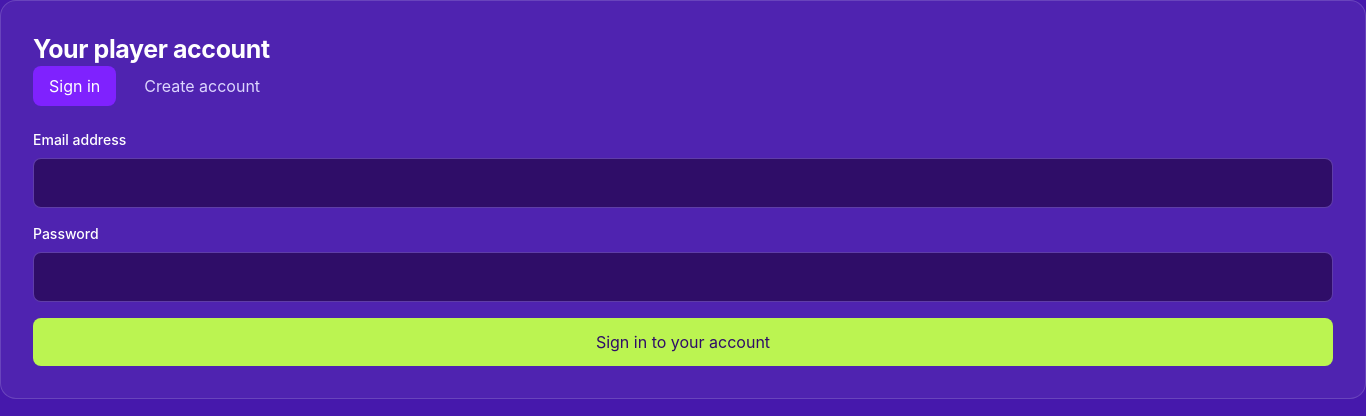
Test: account panel › signs in and clears credentials from the form
Expected: the button "Sign in to your account" is shown, [33,318,1333,366]
Type "player@example.test" into the field labelled "Email address" at (683, 182), box [33,158,1333,208]
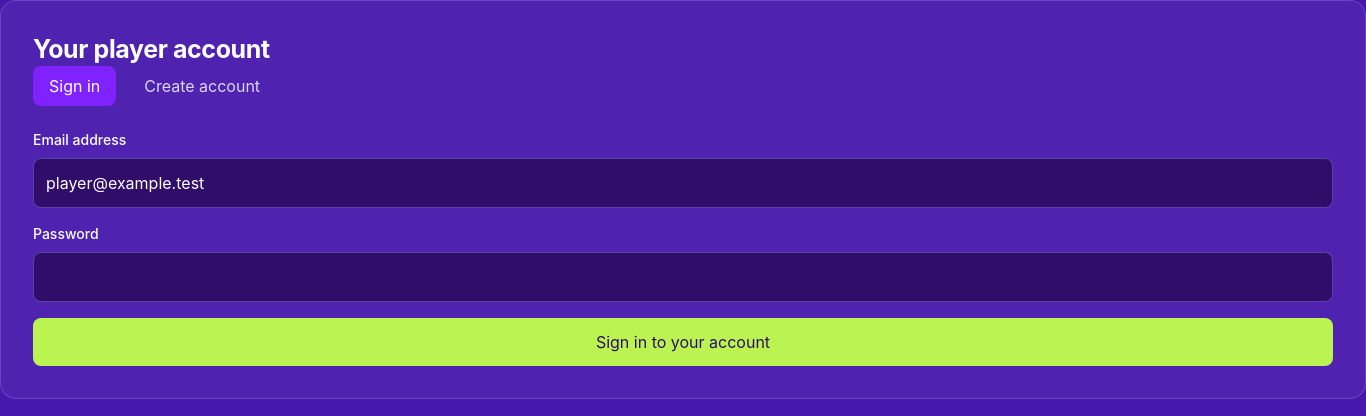
Type "a-long-demo-password" into the password field labelled "Password" at (683, 276), box [33,252,1333,302]
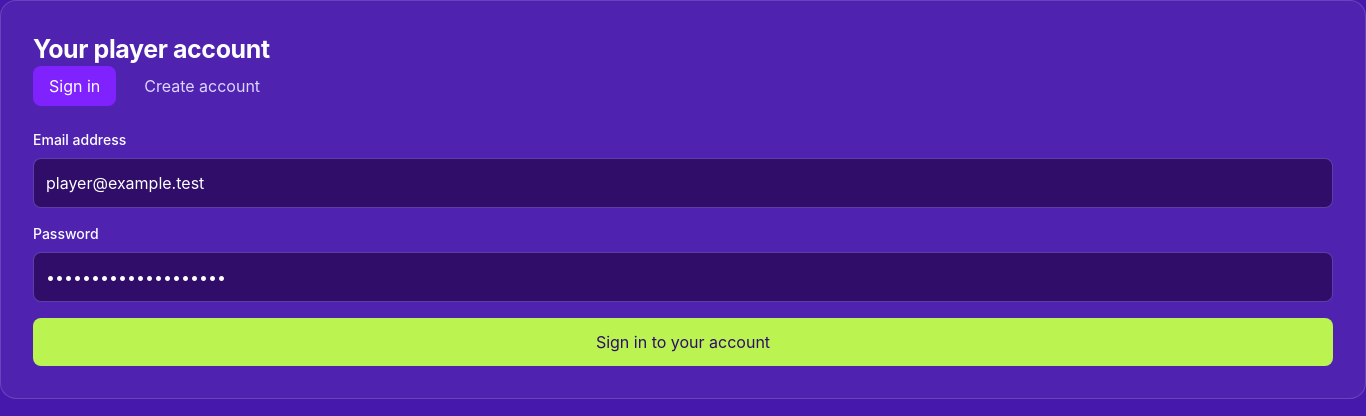
Click the button "Sign in to your account" at (683, 342), box [33,318,1333,366]
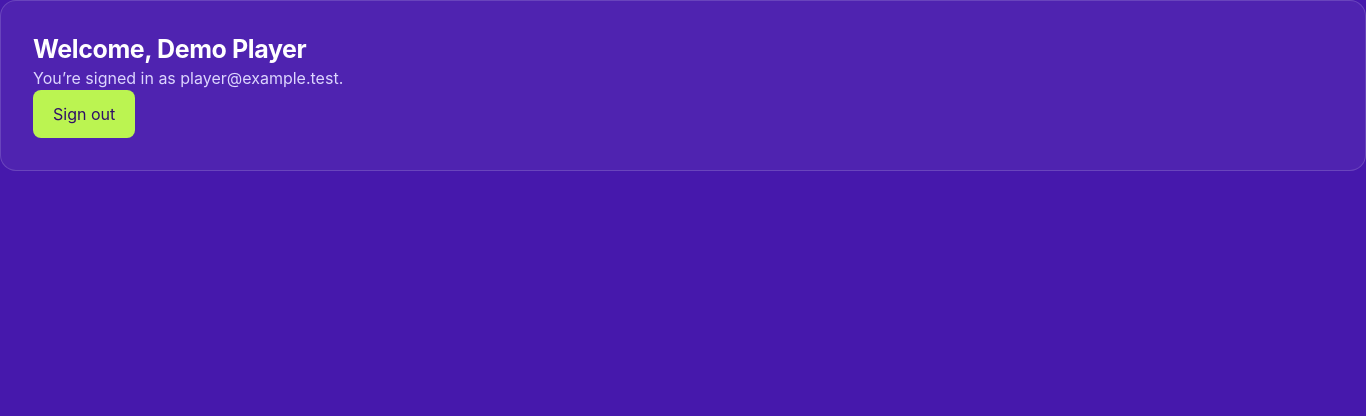
Expected: the heading "Welcome, Demo Player" is shown, [33,34,306,64]
Expected: the label labelled "Password" is gone
